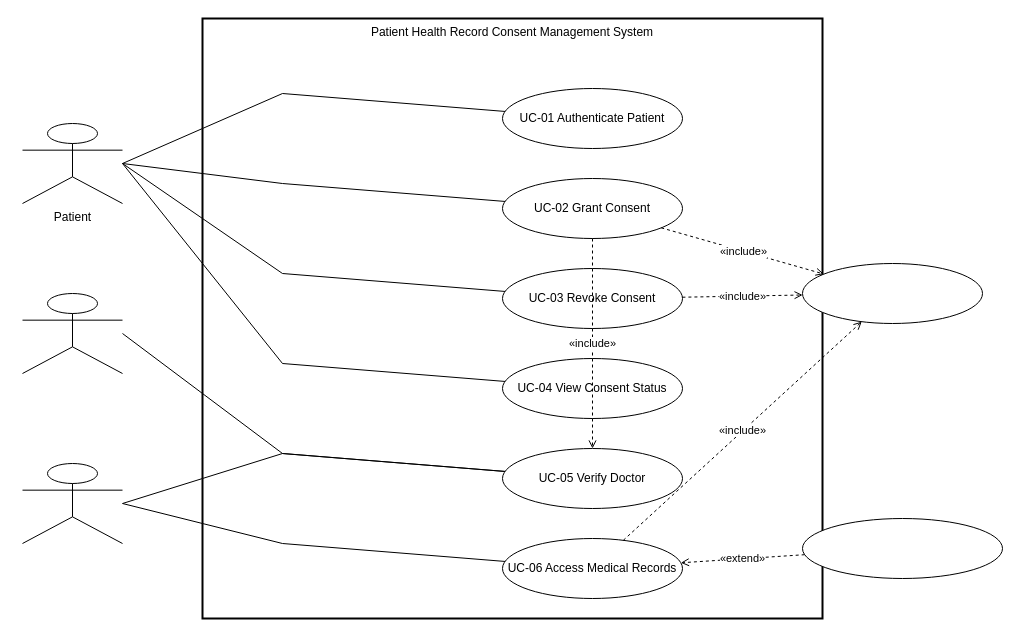
Image size: 1020x636. Some labels were removed from this diagram. The shapes that lost their labels are listed below. From the top down, each one's centre as x and y in pixels, then its label:
(x=892, y=293): UC-07 Record Audit Event
(x=72, y=333): Clinic Administrator
(x=72, y=503): Verified Clinic Doctor
(x=902, y=548): UC-08 Deny Access for Expired Consent
